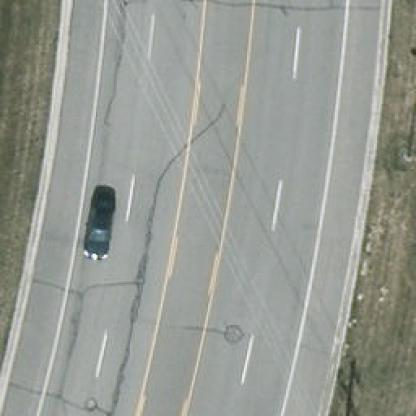car: (76, 186, 116, 263)
